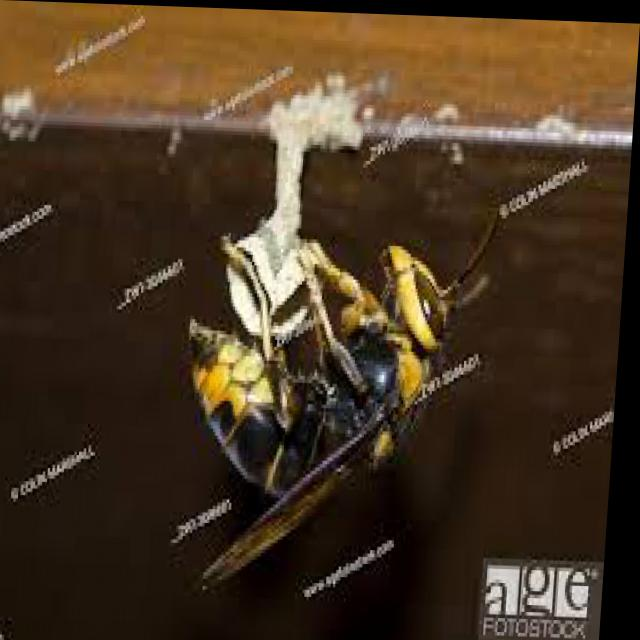Vespa Velutina: (157, 183, 516, 616)
